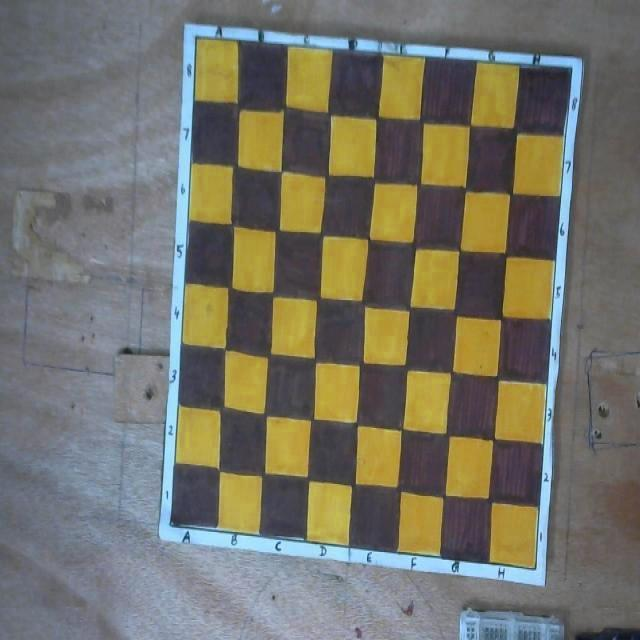chess-table-corners: (168, 516, 174, 530), (532, 562, 538, 574), (192, 33, 200, 42), (568, 64, 574, 74)
